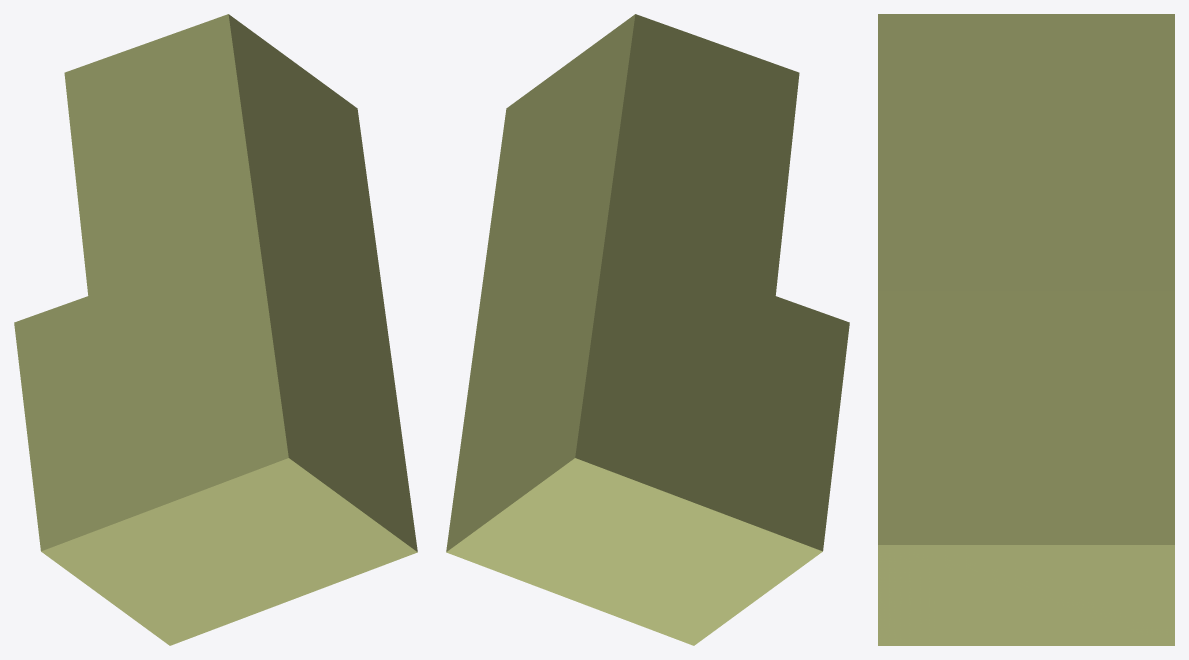
3 views of the same model, side by side, from view 1: azimuth 30°, elevation 25°; view 2: azimuth 150°, elevation 25°; view 3: azimuth 270°, elevation 25° (orthographic). The views are drawn at different scales.
Parts seen in each view (by area): view 1: 0_3_1_3_3_2_2_3_1_1; view 2: 0_3_1_3_3_2_2_3_1_1; view 3: 0_3_1_3_3_2_2_3_1_1.
Part boxes in pixels (x1,y1,x2,y2): 0_3_1_3_3_2_2_3_1_1: (14, 14, 417, 645); 0_3_1_3_3_2_2_3_1_1: (446, 14, 849, 645); 0_3_1_3_3_2_2_3_1_1: (878, 14, 1174, 645).
Size of the model in its own units: 11.06 by 18.92 by 9.
